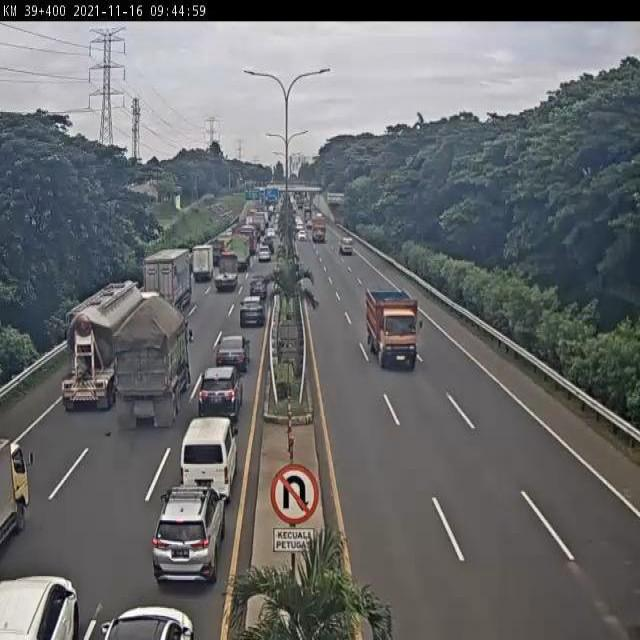car: (152, 488, 225, 581), (196, 366, 242, 418), (213, 343, 246, 377), (239, 299, 266, 332), (248, 276, 266, 301)
small bus: (179, 420, 237, 497)
truck-l-: (116, 300, 194, 429), (141, 246, 192, 322), (222, 238, 247, 274)
truck-m-: (367, 292, 421, 369), (213, 251, 242, 293), (190, 241, 215, 283)
truck-xl-: (61, 277, 156, 408)
